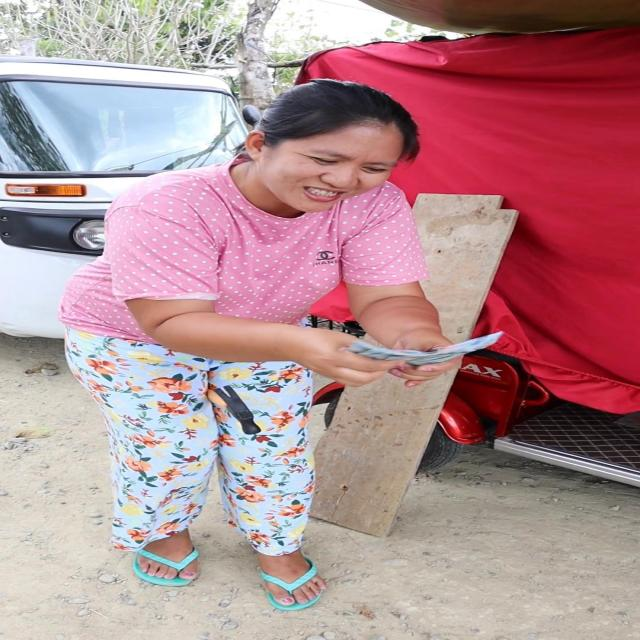hammer: (204, 384, 262, 436)
